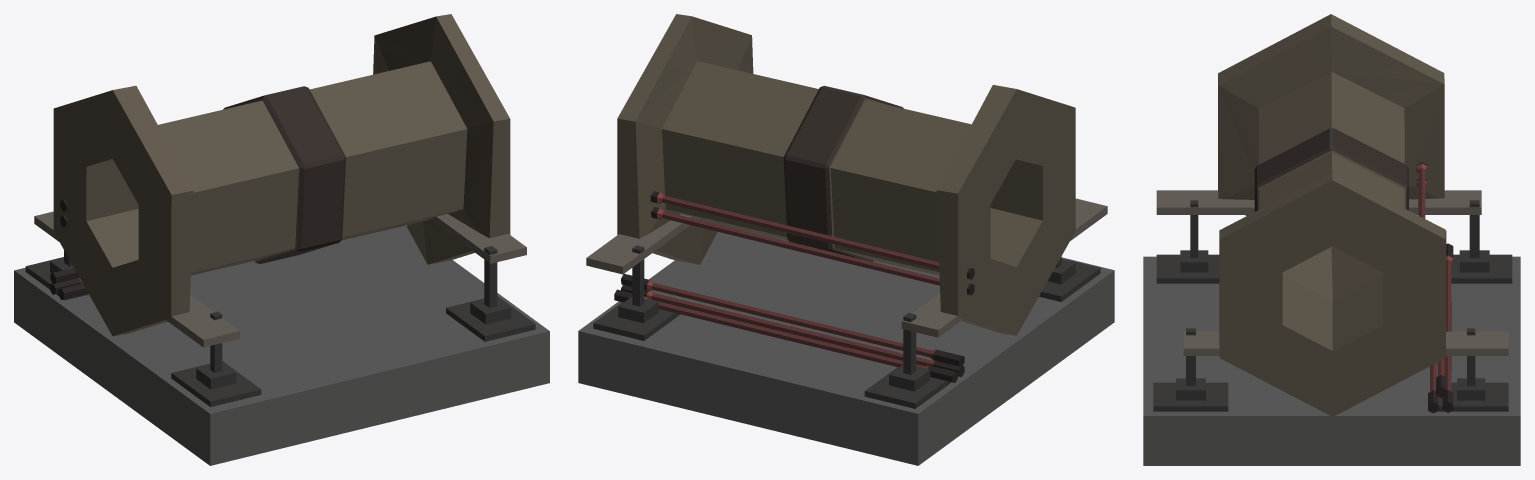
The model's file is pipe.gltf.
3 renders of one model, left to right at view 1: azimuth 30°, elevation 25°; view 2: azimuth 150°, elevation 25°; view 3: azimuth 270°, elevation 25°, orthographic. The views are drawn at different scales.
Visible parts, largest first — view 1: rura cala; view 2: rura cala; view 3: rura cala.
Part boxes in pixels (<box>): rura cala: <box>14,14,549,465</box>; rura cala: <box>578,14,1114,465</box>; rura cala: <box>1143,14,1520,465</box>.
Size of the model in its own units: 2.01 by 1.71 by 2.
1 material, 1 textured.
